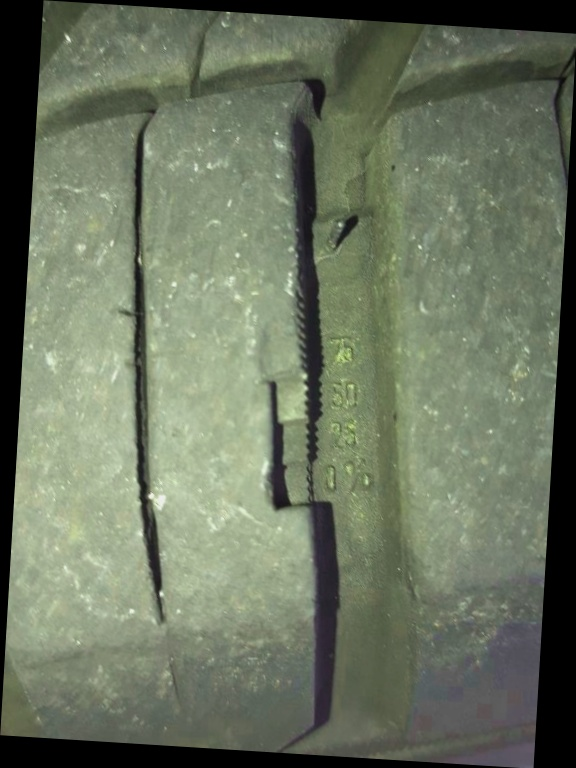temoin:80: (242, 278, 337, 534)
